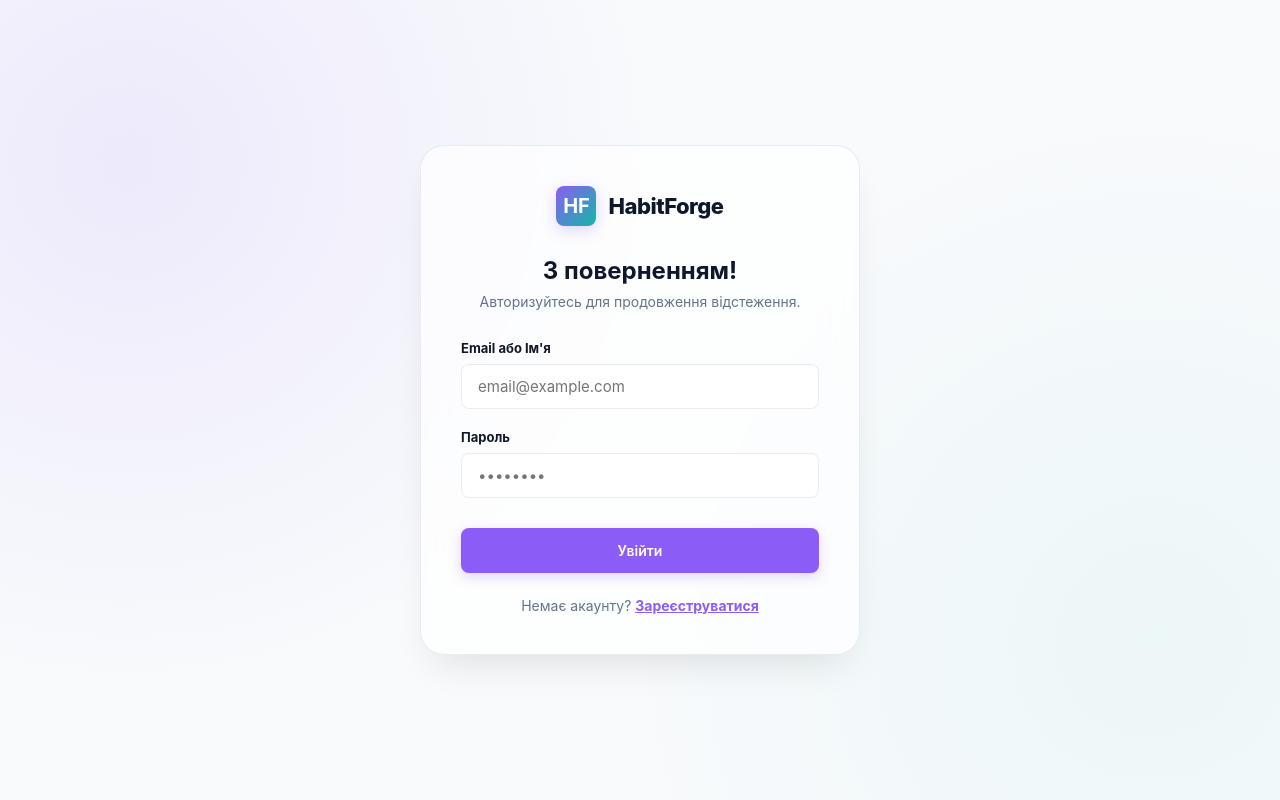
Test: AuthScreen › switches back to login mode from register
// Go to register
Click the text "Зареєструватися" at [697, 606], box [635,597,759,614]
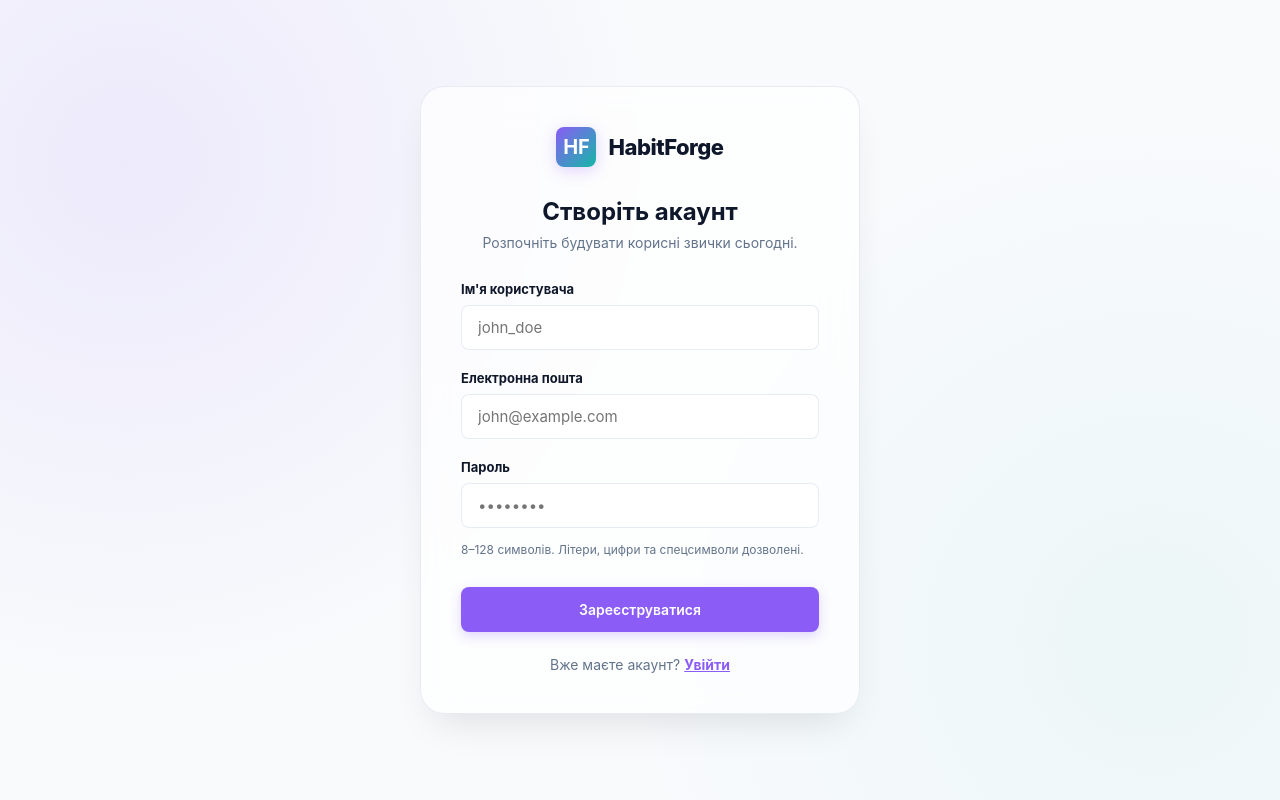
Expected: the heading "Створіть акаунт" is shown, [542,197,738,226]
// Go back to login
Click the text "Увійти" at [707, 664], box [684,656,730,673]
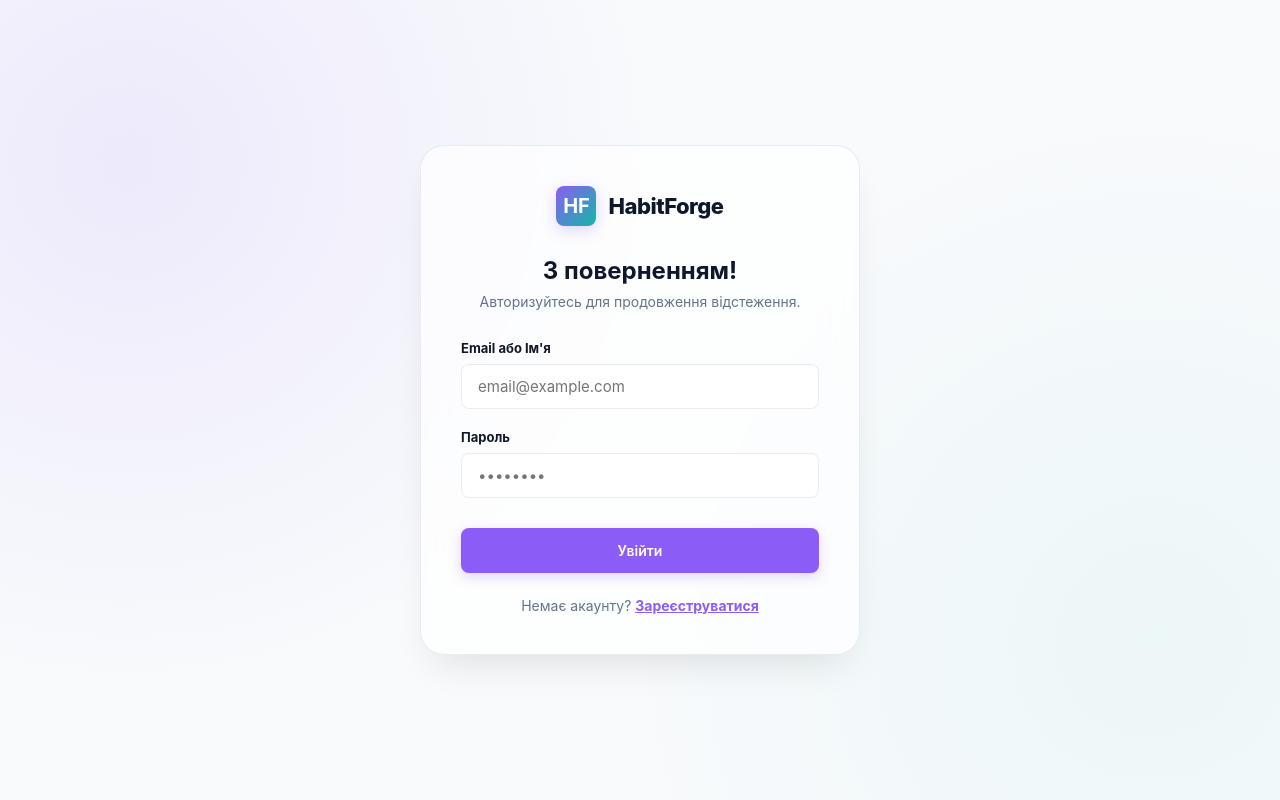
Expected: the heading "З поверненням!" is shown, [543,256,737,285]
